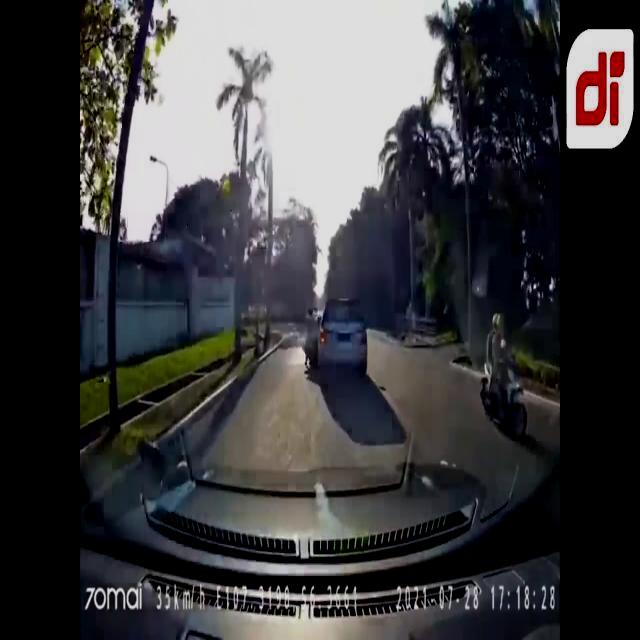accident: (302, 295, 370, 385)
